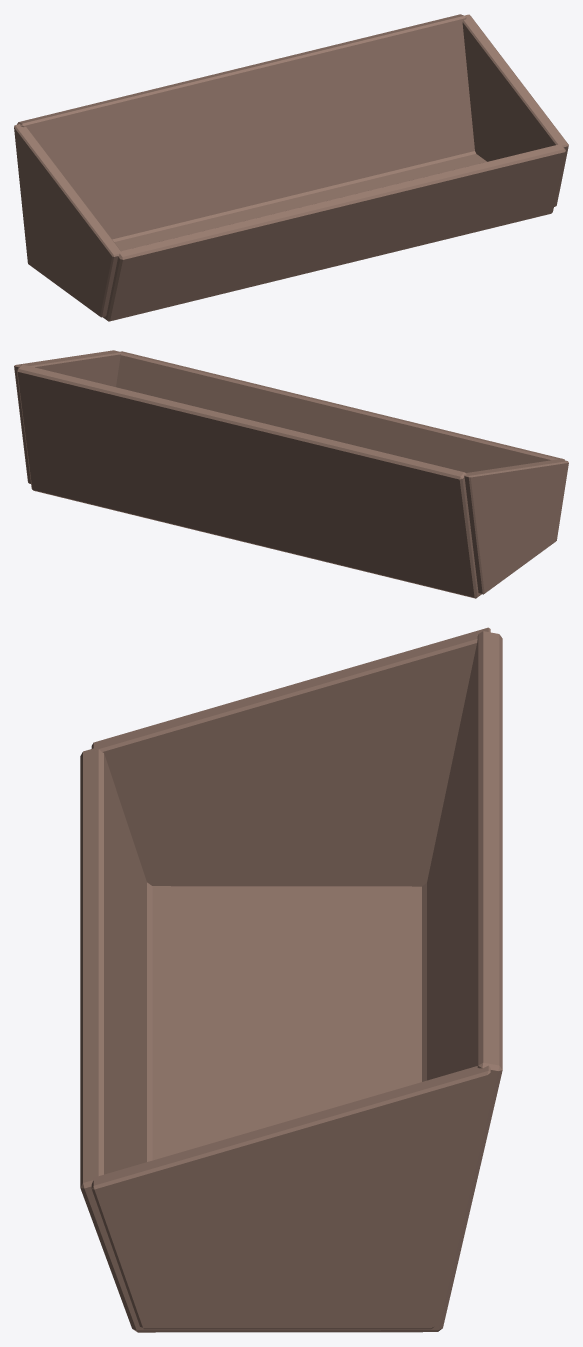
File: context-discard.glb
3 views of the same model, one above another, from view 1: azimuth 30°, elevation 25°; view 2: azimuth 150°, elevation 25°; view 3: azimuth 270°, elevation 25° (orthographic). The views are drawn at different scales.
Visible parts, largest first — view 1: DiscardTray, DiscardSideLeft, DiscardSideRight; view 2: DiscardTray, DiscardSideLeft, DiscardSideRight; view 3: DiscardTray, DiscardSideRight, DiscardSideLeft.
Part boxes in pixels (x1,y1,x2,y2): DiscardTray: [17, 14, 565, 321]; DiscardSideLeft: [14, 124, 121, 317]; DiscardSideRight: [462, 14, 568, 206]; DiscardTray: [16, 351, 564, 598]; DiscardSideLeft: [464, 459, 568, 594]; DiscardSideRight: [14, 350, 120, 483]; DiscardTray: [80, 631, 502, 1332]; DiscardSideRight: [91, 1065, 490, 1329]; DiscardSideLeft: [91, 627, 490, 886].
Bounding box in the file's own units: 1.48 × 0.4164 × 0.5907.
